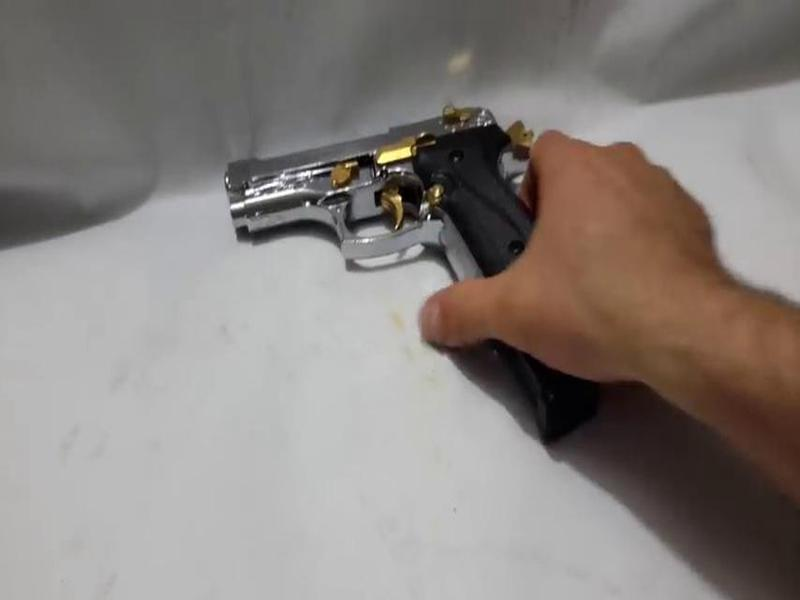Pistola: (202, 88, 560, 304)
